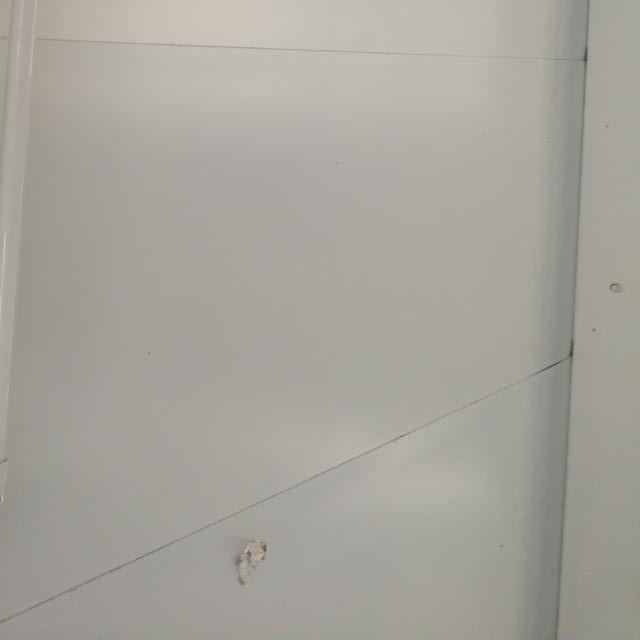fluorescent tube: (0, 1, 123, 555)
